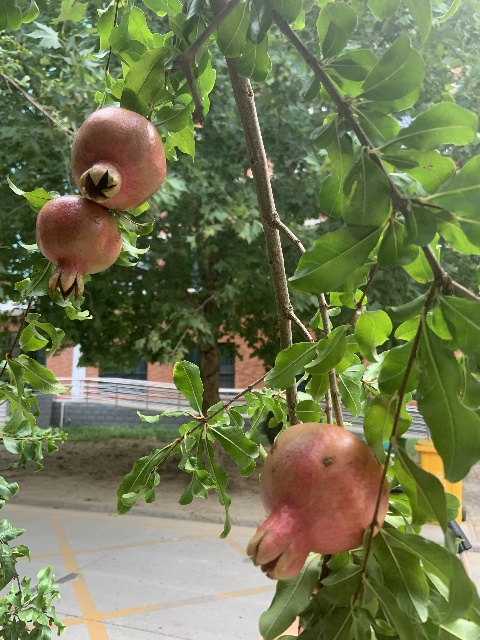ripe: (246, 422, 387, 579), (70, 106, 166, 210), (35, 194, 121, 300)
